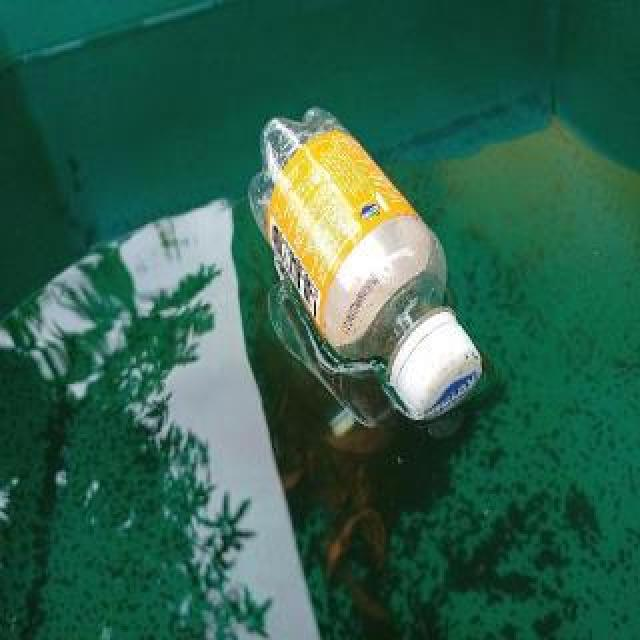Bottle: (244, 103, 484, 427)
